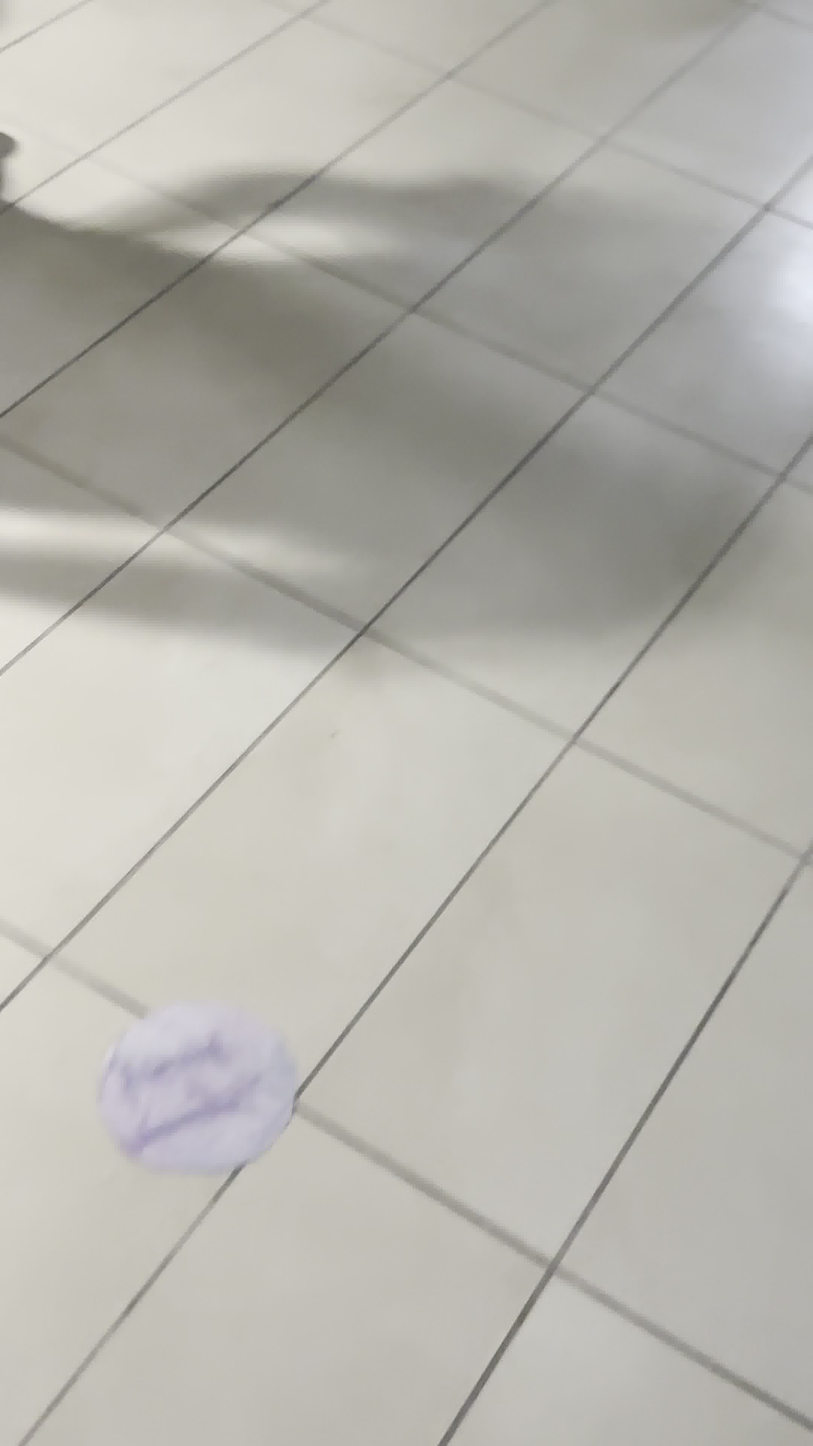Target: (94, 1000, 293, 1172)
